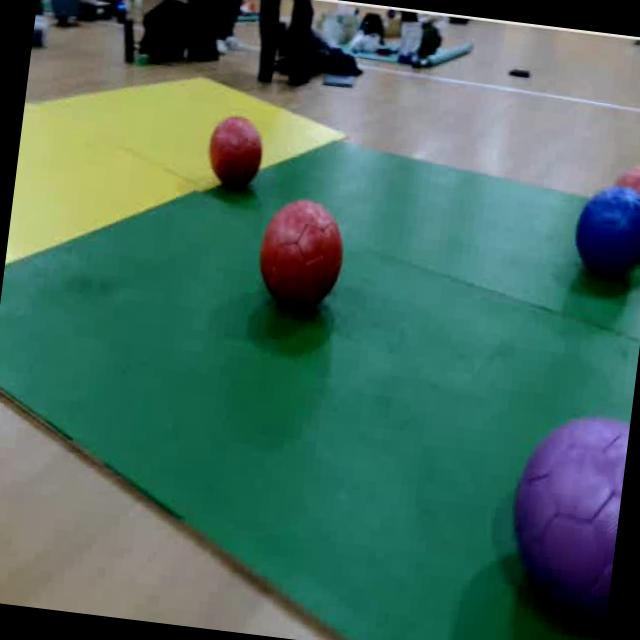blue_ball: (565, 177, 640, 293)
purple_ball: (494, 400, 631, 636)
red_ball: (250, 192, 354, 328), (202, 107, 270, 195), (603, 157, 640, 246)
